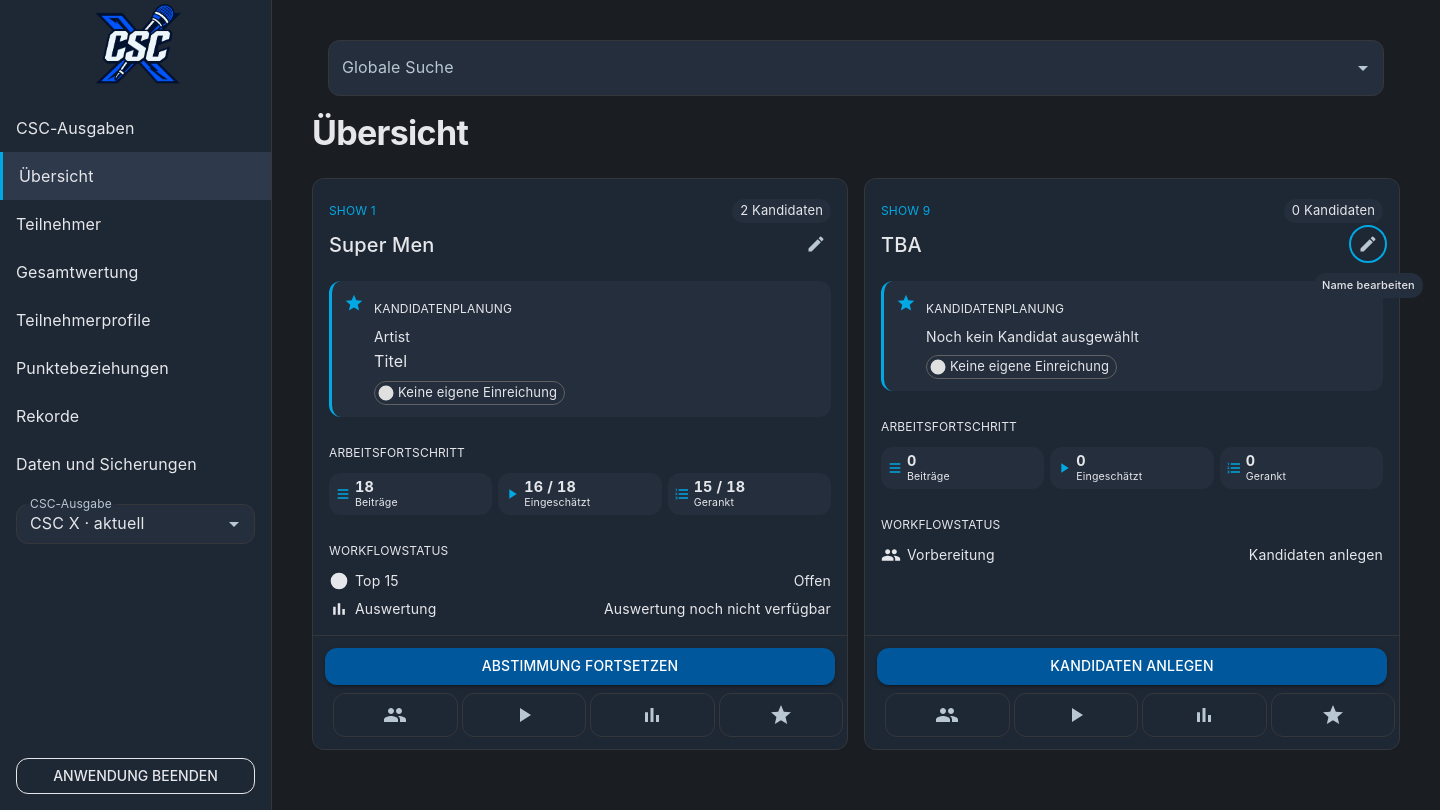
Test: App › persists a renamed show and updates the overview from the direct edit action
Expected: the heading "TBA" is shown, [881,233,922,257]
Press Enter
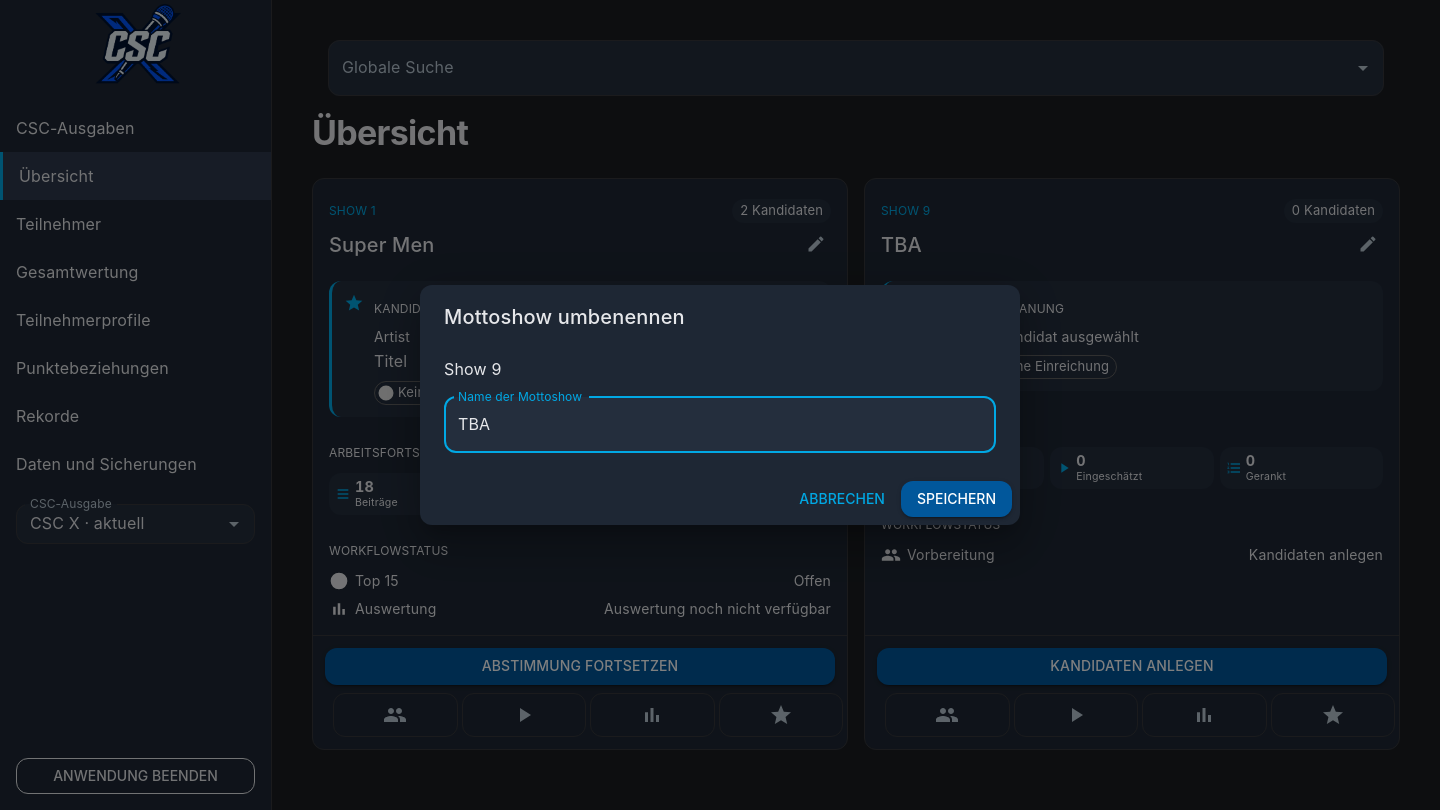
Expected: the dialog "Mottoshow umbenennen" is shown, [420,285,1020,525]
Replace the text in the field labelled "Name der Mottoshow" with "Neues Motto": (720, 425) [444,397,996,453]
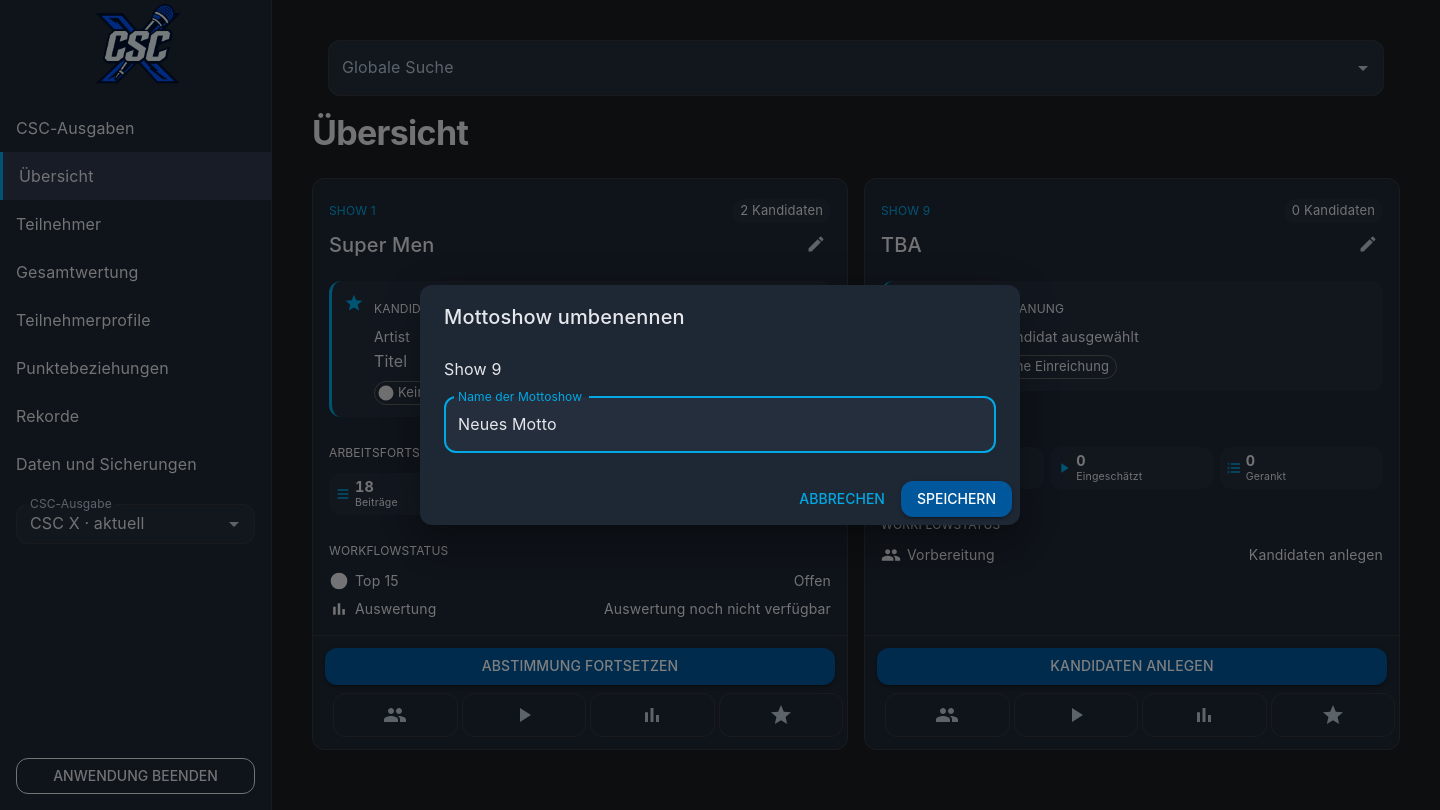
Click the button "Speichern": (956, 499) [901,481,1012,517]
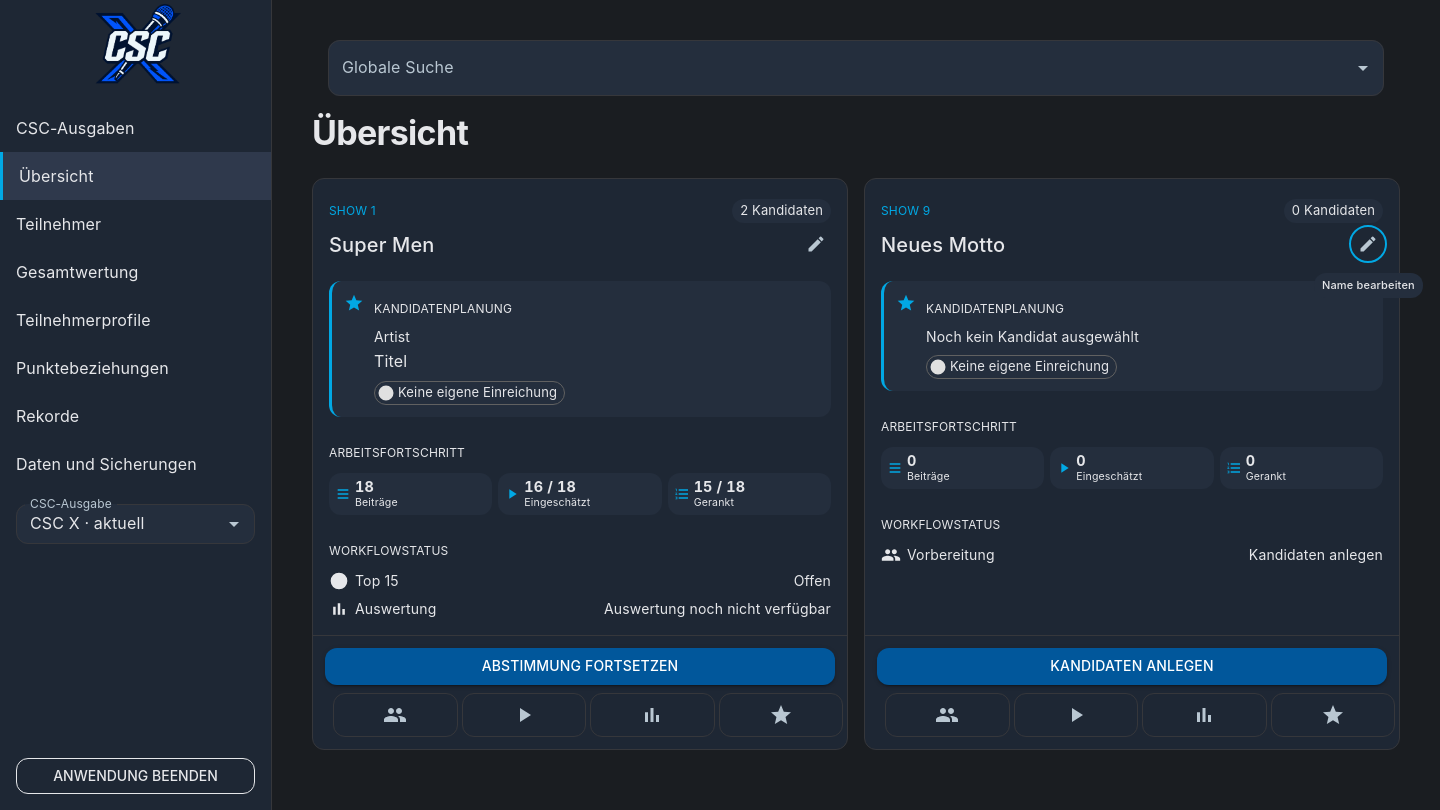
Expected: the dialog is gone
Expected: the heading "Neues Motto" is shown, [881,233,1005,257]
